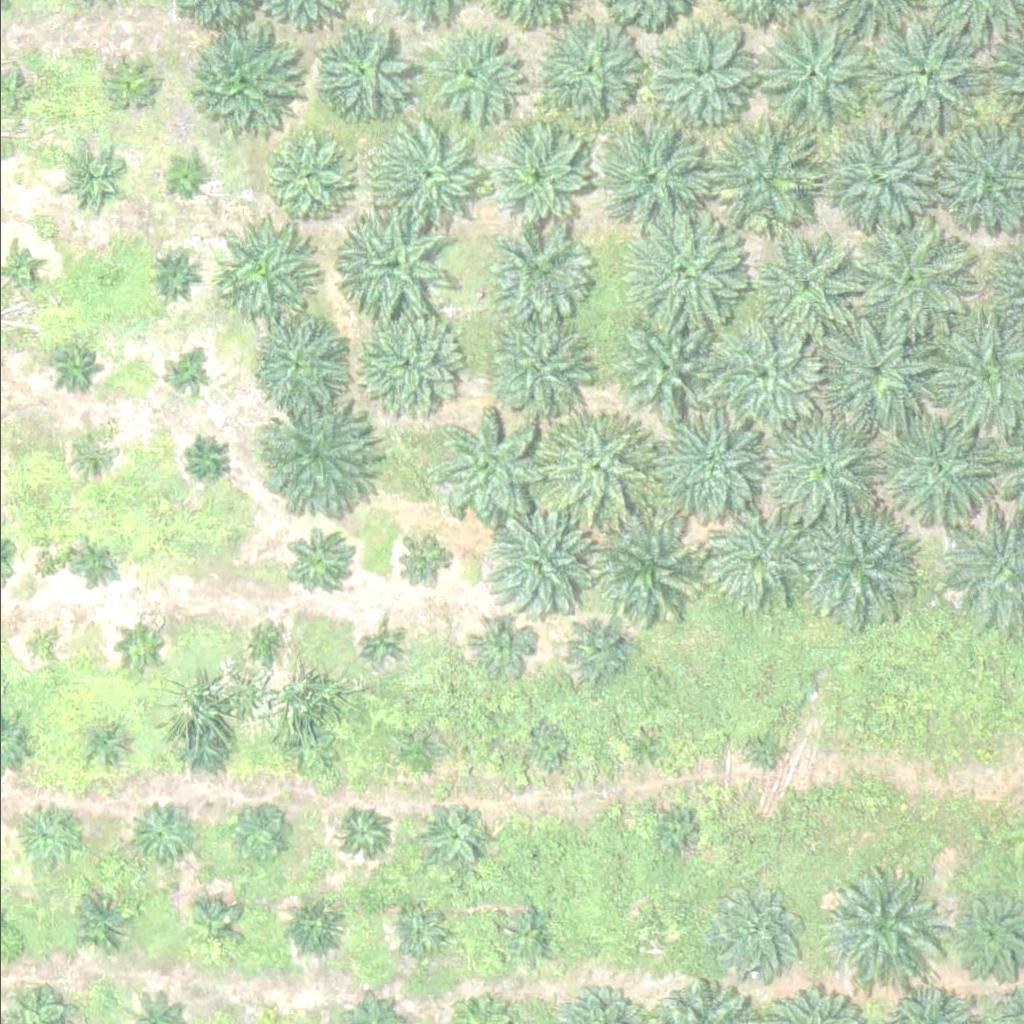Kelapa_Sawit: (630, 11, 756, 136), (747, 11, 873, 136), (700, 117, 826, 242), (584, 116, 710, 241), (844, 214, 970, 339), (810, 304, 936, 429), (688, 312, 814, 437), (637, 399, 763, 524), (751, 407, 877, 532), (872, 402, 998, 527), (789, 500, 915, 625), (569, 511, 695, 636), (818, 860, 944, 985), (330, 205, 456, 330), (364, 113, 490, 238), (865, 17, 990, 142), (814, 117, 939, 242), (618, 212, 743, 337), (250, 401, 375, 526), (180, 22, 294, 135), (435, 413, 548, 526), (349, 302, 462, 415), (475, 510, 588, 622), (540, 414, 653, 526), (199, 211, 312, 323), (751, 237, 852, 337), (699, 511, 800, 611), (704, 881, 805, 981), (250, 312, 351, 412), (485, 318, 586, 418), (486, 217, 587, 317), (483, 127, 584, 227), (256, 126, 357, 226), (536, 15, 637, 115), (420, 27, 521, 127), (312, 19, 412, 119), (615, 322, 704, 409), (219, 793, 295, 868), (284, 525, 359, 600), (11, 802, 74, 865), (51, 143, 114, 206), (97, 49, 160, 112), (168, 716, 231, 779), (469, 612, 532, 675), (567, 622, 630, 685), (284, 895, 347, 958), (494, 905, 557, 968), (127, 801, 190, 863), (67, 891, 130, 953), (425, 802, 488, 864), (76, 720, 127, 770), (391, 539, 442, 589), (282, 727, 333, 777), (188, 901, 238, 951), (149, 250, 199, 300), (51, 344, 101, 394), (336, 809, 386, 859), (395, 903, 445, 953), (72, 540, 122, 590), (154, 151, 204, 201), (119, 634, 157, 672), (191, 441, 229, 479), (528, 727, 566, 765), (626, 731, 664, 769), (745, 732, 783, 770), (402, 734, 440, 772), (18, 627, 56, 665), (165, 358, 203, 395), (633, 917, 670, 955), (652, 813, 690, 850), (67, 435, 105, 472), (358, 625, 395, 662), (248, 629, 285, 666), (515, 844, 540, 869)
